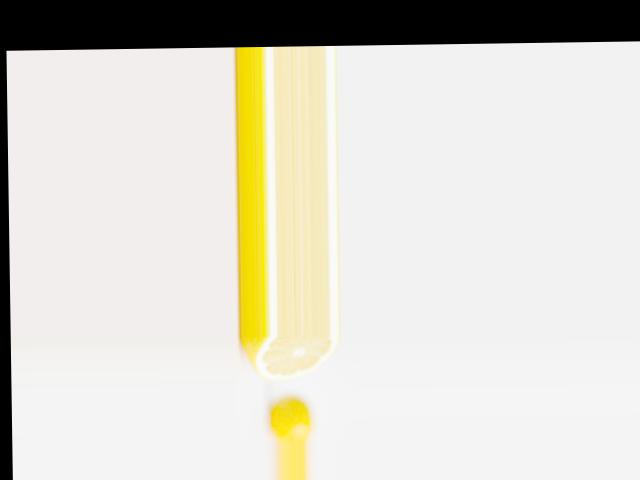lemon: (271, 397, 311, 443)
